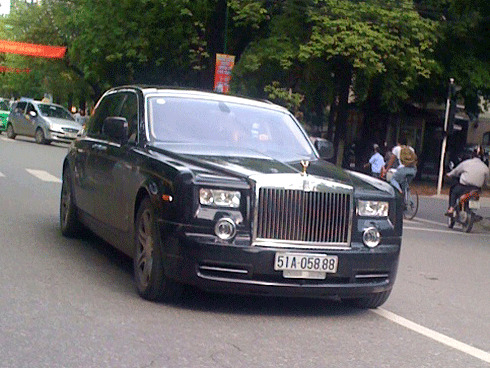number_plate: (274, 252, 338, 273)
